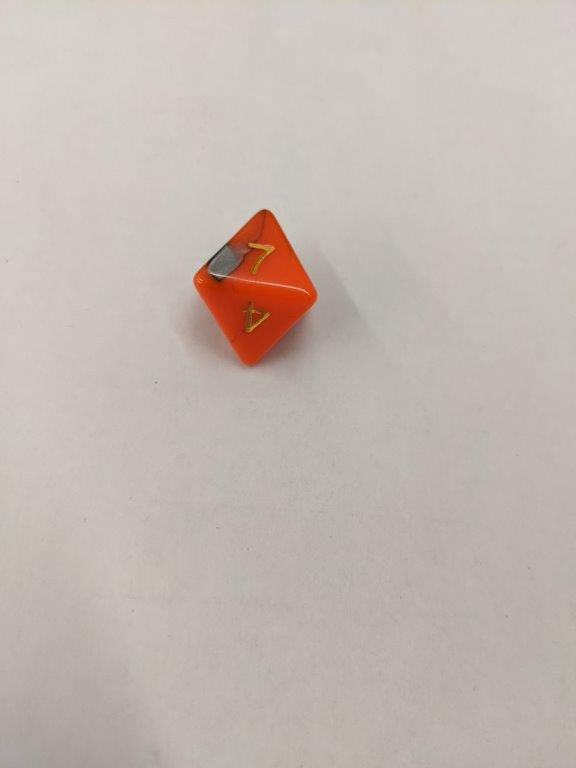d8-7: (192, 209, 323, 370)
